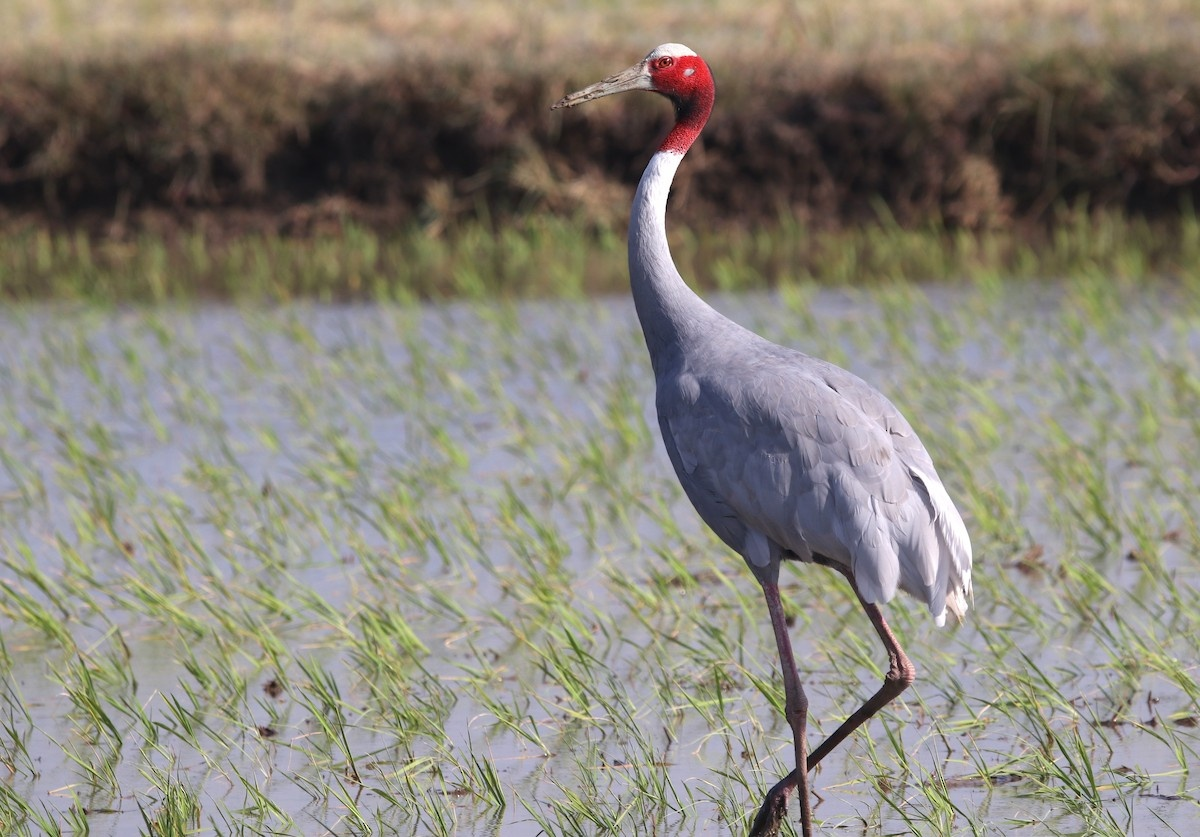crane: (560, 37, 987, 804)
